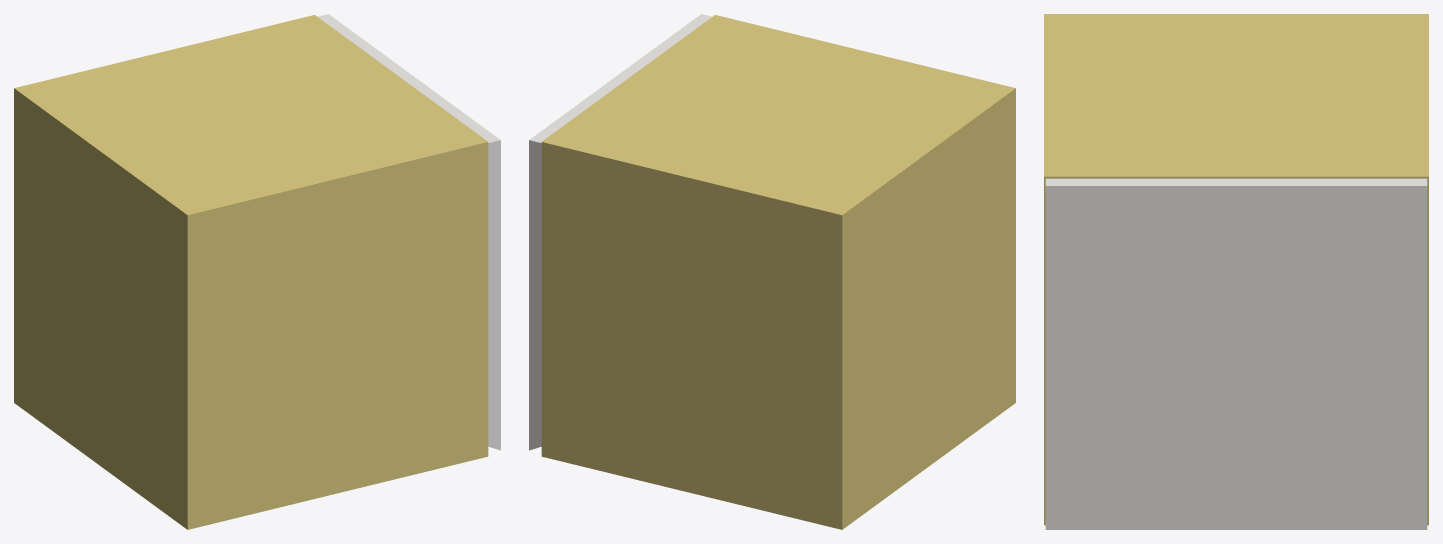
Rendered from Cabinet2.fbx.
3 renders of one model, left to right at view 1: azimuth 30°, elevation 25°; view 2: azimuth 150°, elevation 25°; view 3: azimuth 270°, elevation 25°, orthographic. The views are drawn at different scales.
Parts seen in each view (by area): view 1: polySurface205; view 2: polySurface205; view 3: polySurface205.
Boxes of the visible parts, left/top/right/bottom form: polySurface205: left=14, top=14, right=500, bottom=529; polySurface205: left=529, top=14, right=1015, bottom=529; polySurface205: left=1044, top=14, right=1428, bottom=529.
Size of the model in its own units: 104 by 100 by 100.
